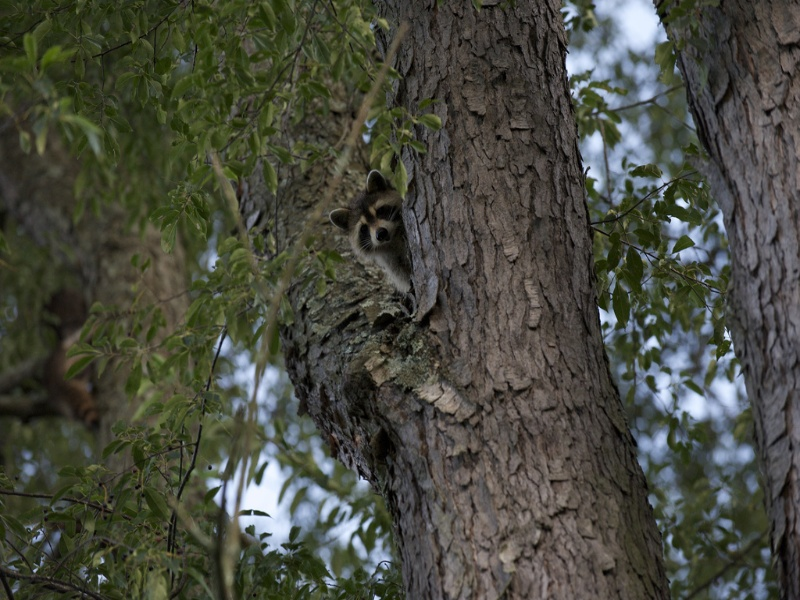raccoon: (323, 168, 427, 309)
